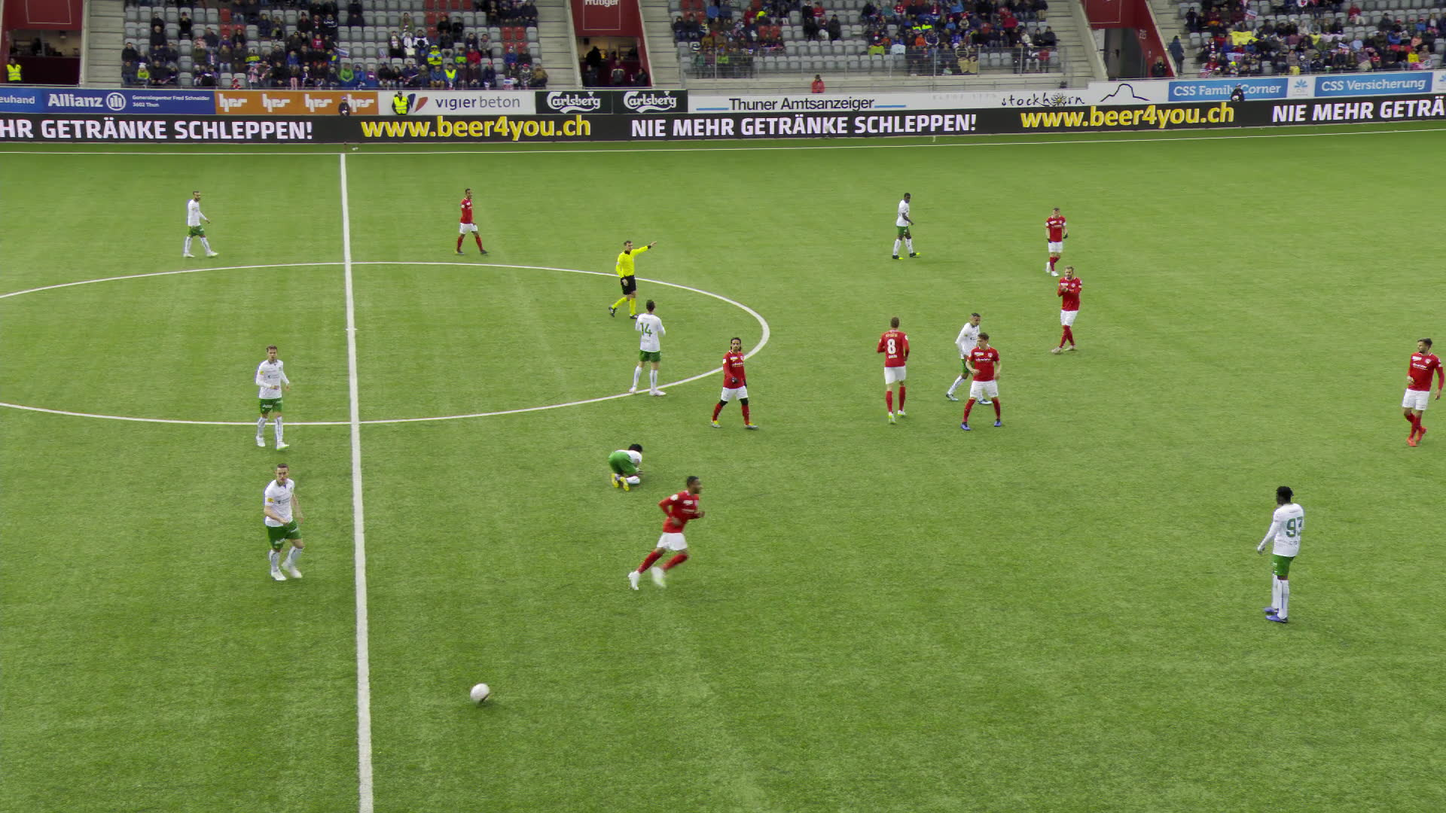ball: (470, 682, 489, 701)
player: (627, 477, 703, 595), (258, 462, 315, 585), (1257, 486, 1306, 623), (1399, 338, 1444, 446), (960, 330, 1005, 432), (253, 343, 292, 452), (876, 315, 911, 425), (627, 300, 667, 396), (716, 336, 756, 431), (951, 311, 991, 403), (178, 189, 218, 258), (1052, 264, 1082, 354), (454, 187, 486, 255), (1044, 206, 1071, 277), (889, 190, 914, 260), (609, 443, 645, 491)
referee: (608, 238, 658, 320)
